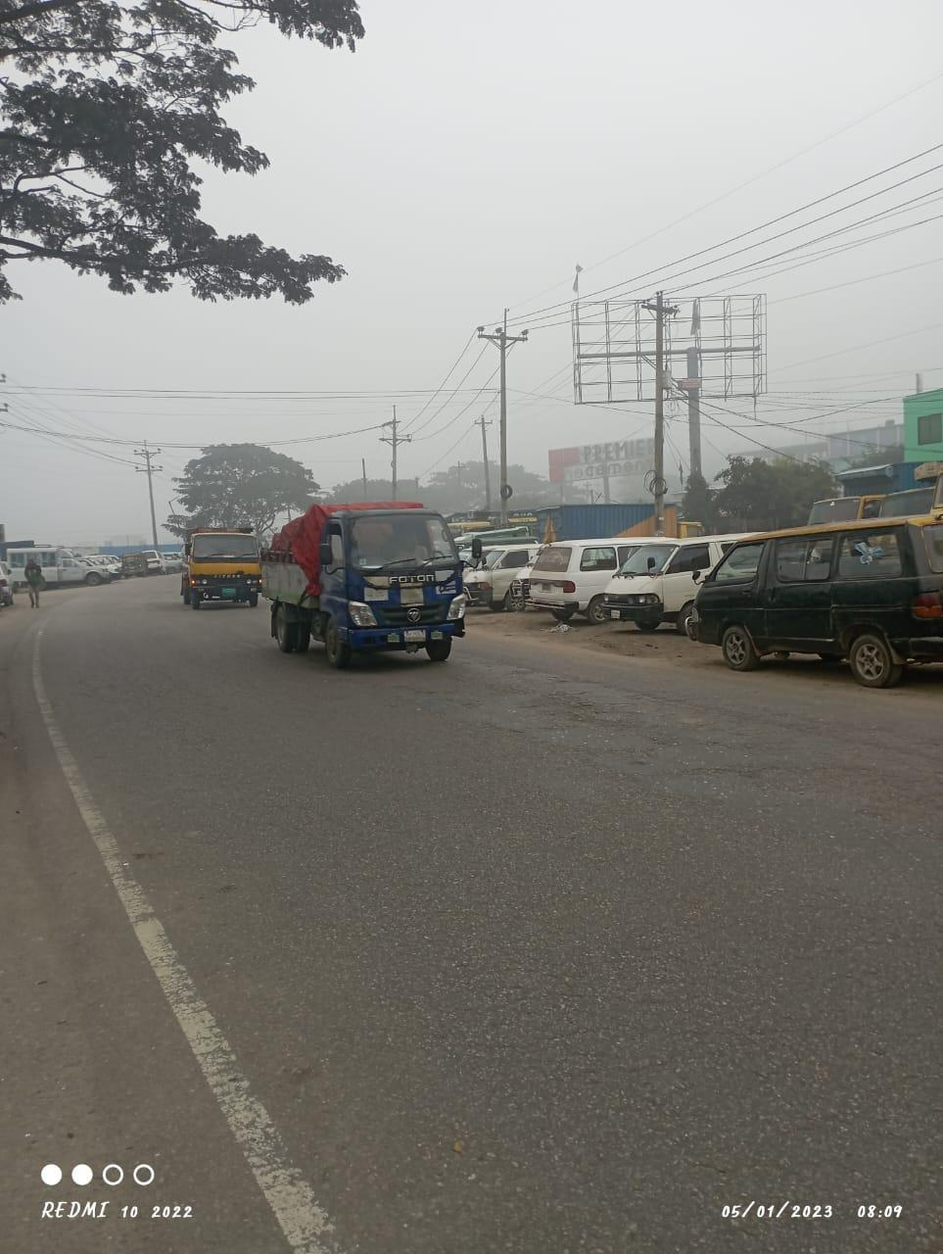Car: (690, 508, 938, 686), (604, 530, 737, 643), (521, 533, 678, 623), (5, 538, 114, 589)
Truck: (255, 495, 494, 681), (177, 522, 270, 612)
